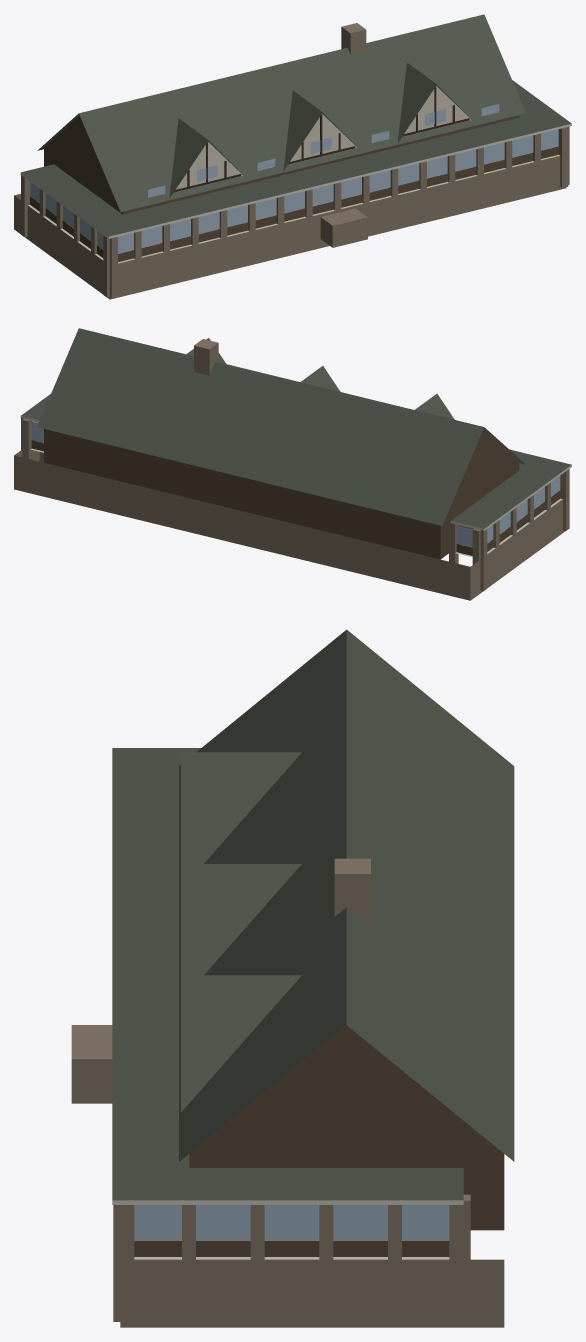
Rendered from country-club-clubhouse-1913.glb.
The picture shows the model from 3 angles, top to bottom: view 1: azimuth 30°, elevation 25°; view 2: azimuth 150°, elevation 25°; view 3: azimuth 270°, elevation 25°; orthographic projection. The views are drawn at different scales.
Visible parts, largest first — view 1: country_club_clubhouse_1913; view 2: country_club_clubhouse_1913; view 3: country_club_clubhouse_1913.
Boxes of the visible parts, x1,y1,x2,y2 form: country_club_clubhouse_1913: [14, 14, 571, 299]; country_club_clubhouse_1913: [14, 328, 571, 600]; country_club_clubhouse_1913: [71, 629, 514, 1327].
Bounding box in the file's own units: 52.78 × 16.89 × 21.83.
